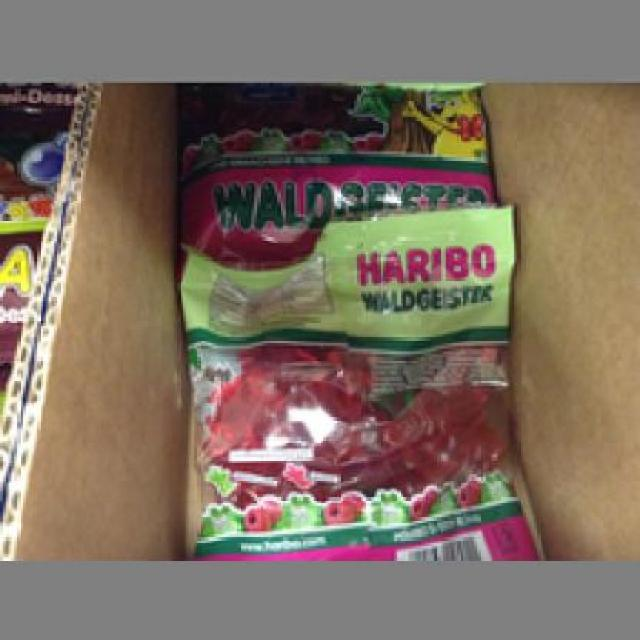Candy: (171, 220, 520, 554), (172, 90, 494, 206)
